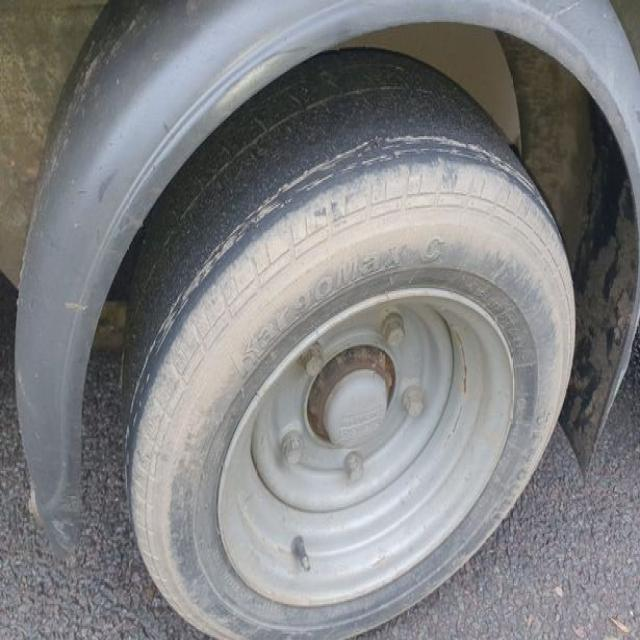Flat spots: (274, 71, 447, 155)
